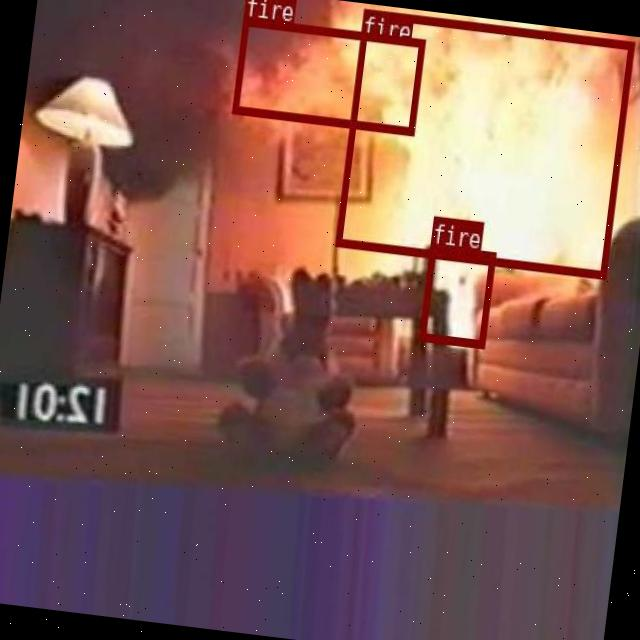fire: (336, 8, 634, 277), (230, 16, 424, 134), (418, 244, 494, 347)
